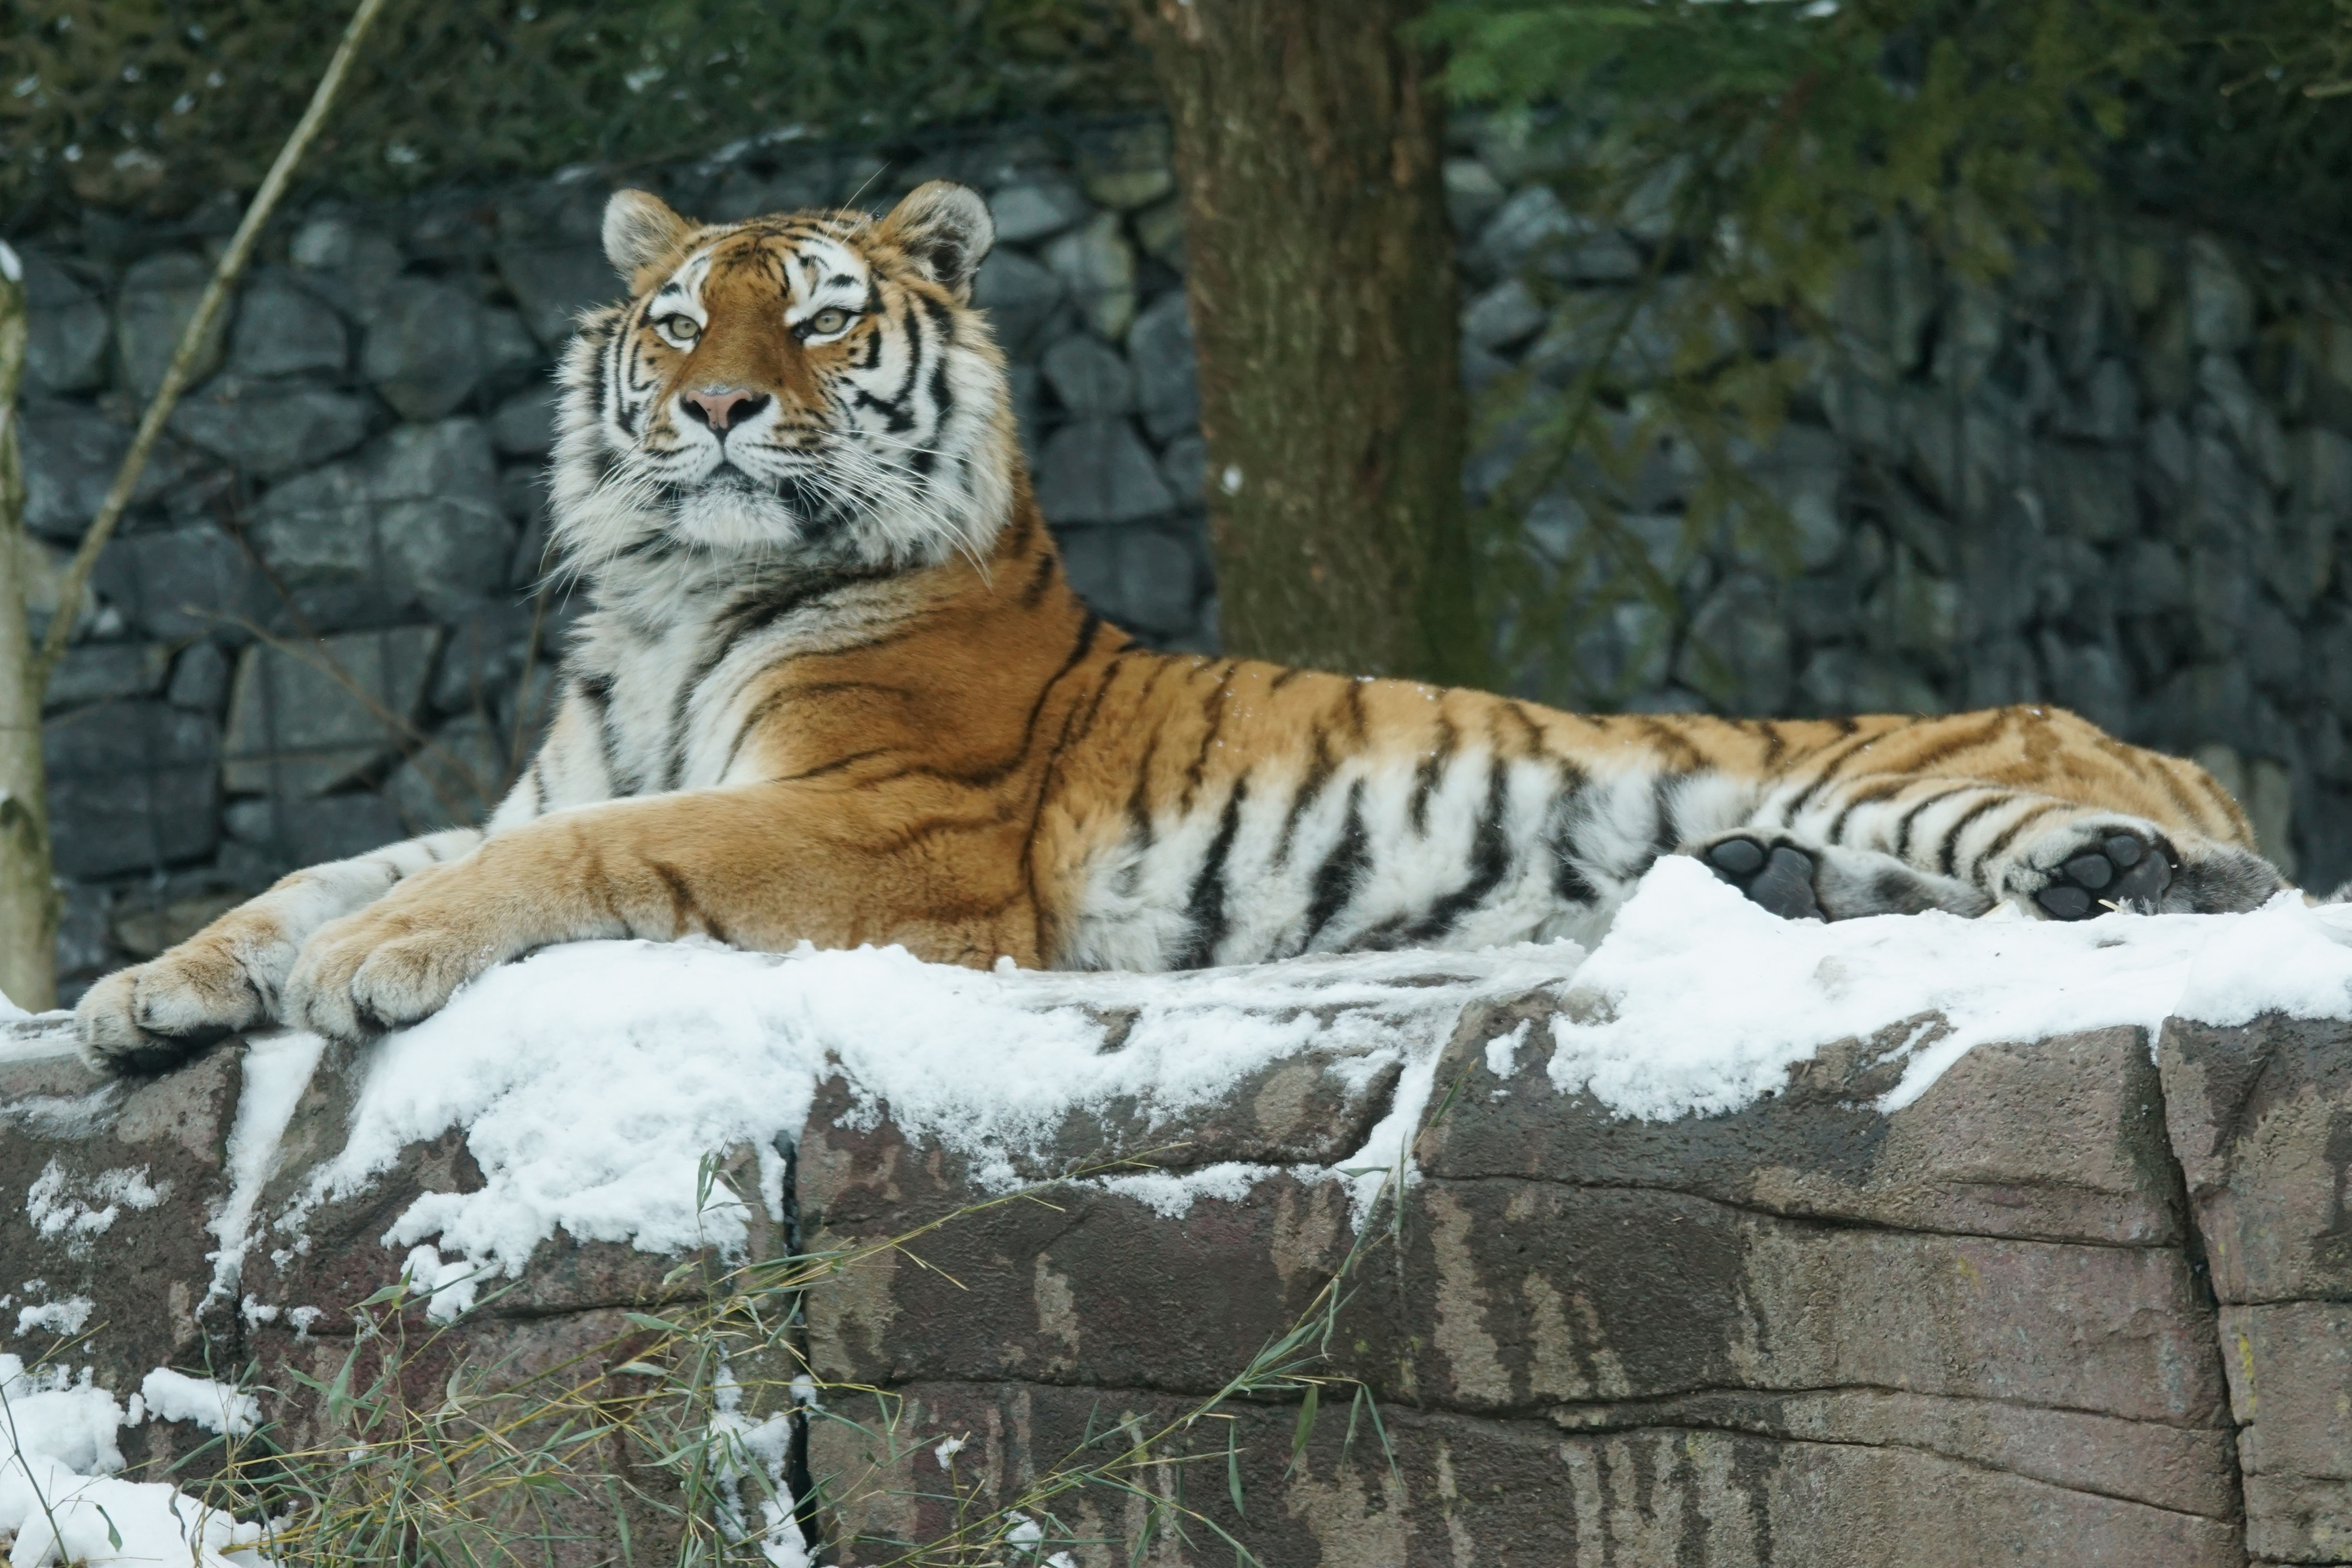tiger: (110, 136, 2275, 994)
